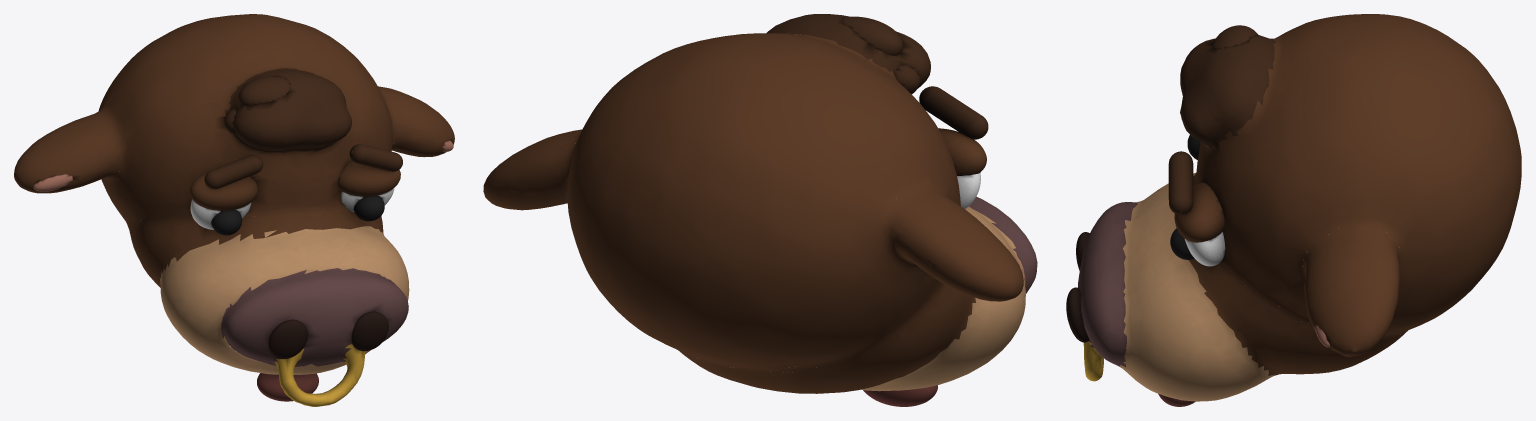
Rendered from tyvarr-kan-jag-inte.glb.
The picture shows the model from 3 angles, left to right: view 1: azimuth 30°, elevation 25°; view 2: azimuth 150°, elevation 25°; view 3: azimuth 270°, elevation 25°; orthographic projection. The views are drawn at different scales.
Parts seen in each view (by area): view 1: cabeca__r0, cabeca__r4, cabeca__r9, cabeca__r12, cabeca__r5, cabeca__r13, cabeca__r1, cabeca__r14, cabeca__r10, cabeca__r3, cabeca__r8, cabeca__r2 (+1 smaller); view 2: cabeca__r0, cabeca__r5, cabeca__r4, cabeca__r1, cabeca__r14, cabeca__r2, cabeca__r15; view 3: cabeca__r0, cabeca__r9, cabeca__r10, cabeca__r7, cabeca__r13, cabeca__r1, cabeca__r8.
Boxes of the visible parts, x1,y1,x2,y2 form: cabeca__r0: (14, 14, 454, 406); cabeca__r4: (190, 173, 258, 210); cabeca__r9: (338, 161, 400, 196); cabeca__r12: (268, 319, 307, 359); cabeca__r5: (204, 154, 263, 189); cabeca__r13: (351, 311, 388, 351); cabeca__r1: (238, 76, 290, 105); cabeca__r14: (257, 373, 318, 401); cabeca__r10: (349, 144, 402, 171); cabeca__r3: (211, 209, 242, 235); cabeca__r8: (354, 195, 384, 221); cabeca__r2: (190, 199, 251, 229); cabeca__r0: (483, 14, 1037, 393); cabeca__r5: (919, 86, 988, 139); cabeca__r4: (938, 128, 986, 175); cabeca__r1: (842, 16, 903, 55); cabeca__r14: (863, 385, 937, 406); cabeca__r2: (957, 172, 980, 209); cabeca__r15: (895, 65, 920, 94); cabeca__r0: (1078, 14, 1521, 401); cabeca__r9: (1174, 182, 1224, 242); cabeca__r10: (1168, 151, 1193, 214); cabeca__r7: (1184, 231, 1225, 266); cabeca__r13: (1066, 287, 1089, 342); cabeca__r1: (1211, 25, 1258, 48); cabeca__r8: (1170, 228, 1194, 259).
Size of the model in its own units: 1.26 by 0.9018 by 0.9794.
